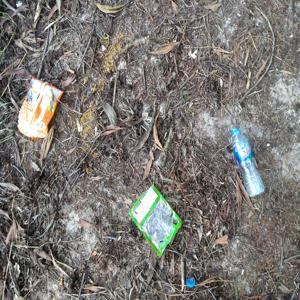plastic: (9, 62, 72, 153), (134, 187, 199, 258), (183, 275, 202, 289)
plastic bottle: (222, 121, 272, 206)
